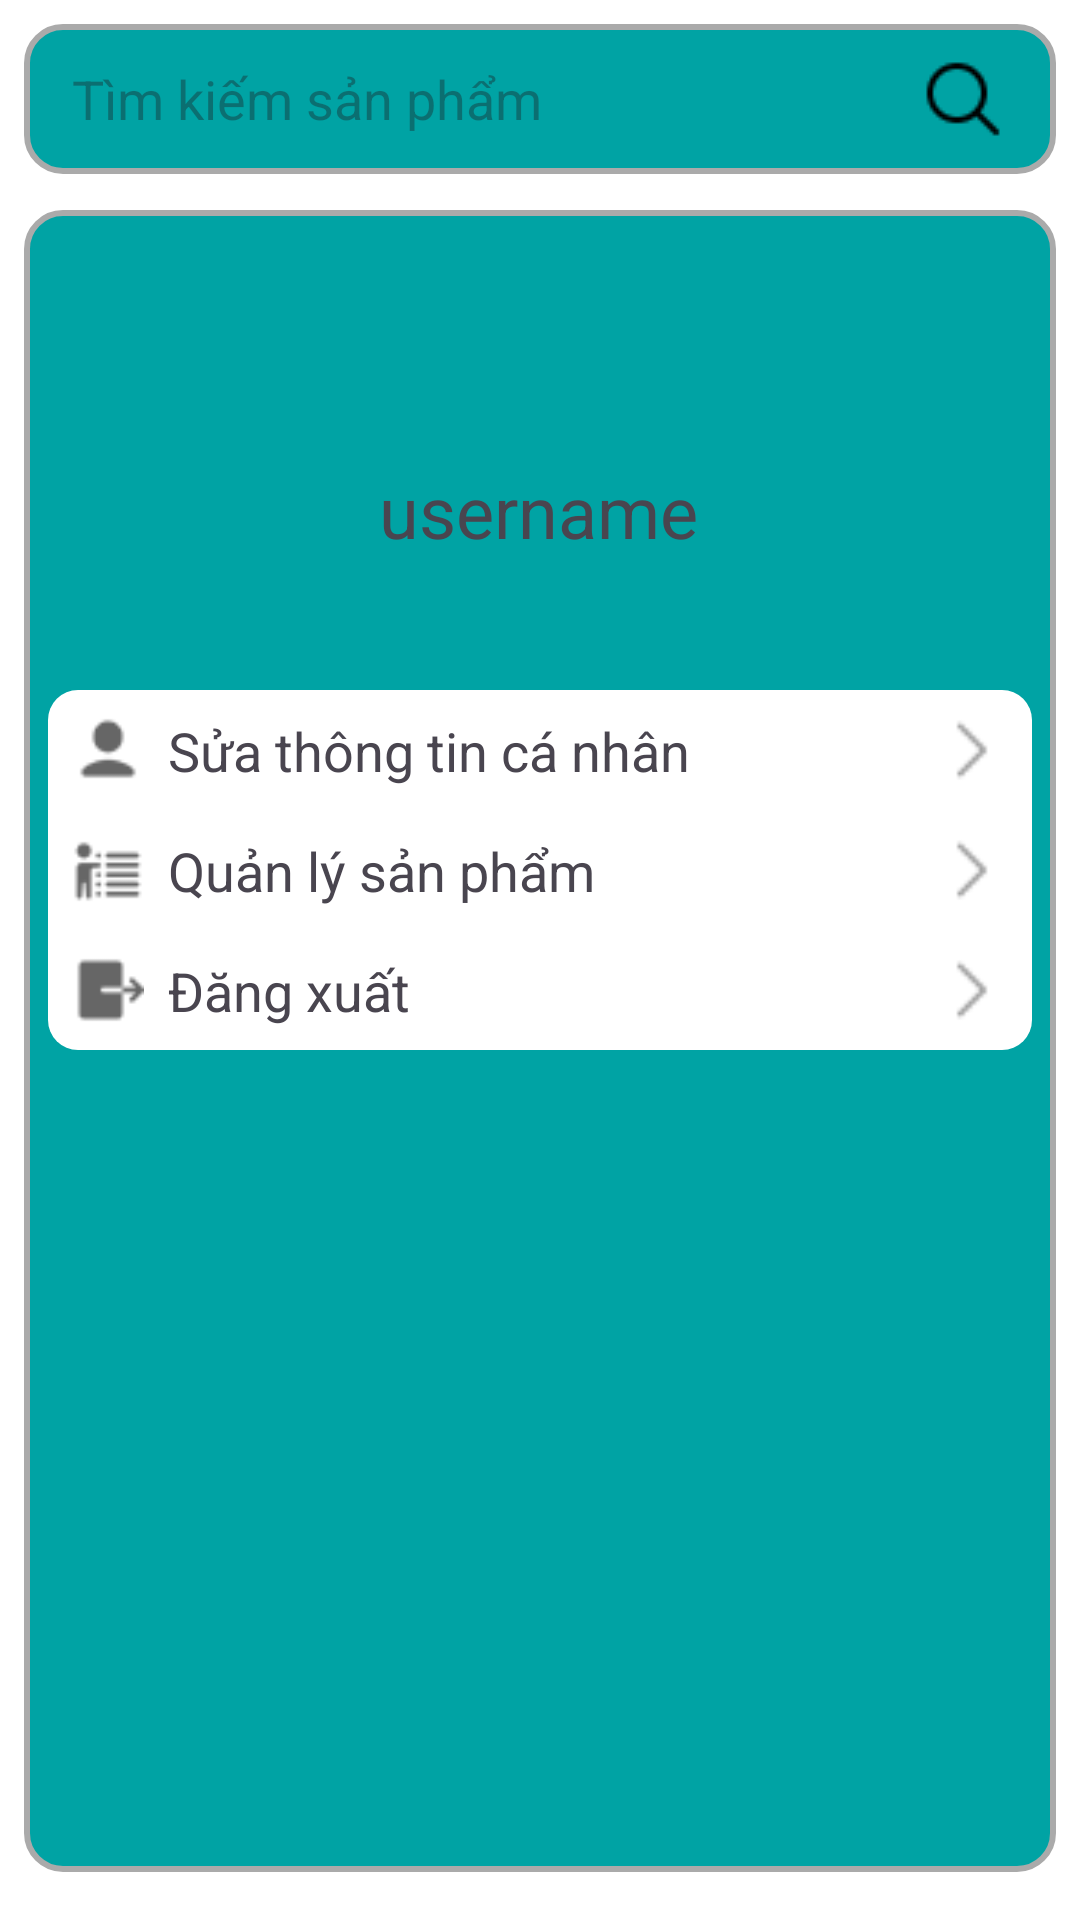

Named icons in this screenshot (1080w x 1920h) and their bounding boxes, (x1, y1, x2, y2):
arrowright: (957, 723, 987, 777), (957, 843, 987, 897), (957, 963, 987, 1017)
iconmanager: (75, 842, 141, 900)
iconuser: (80, 719, 136, 778)
